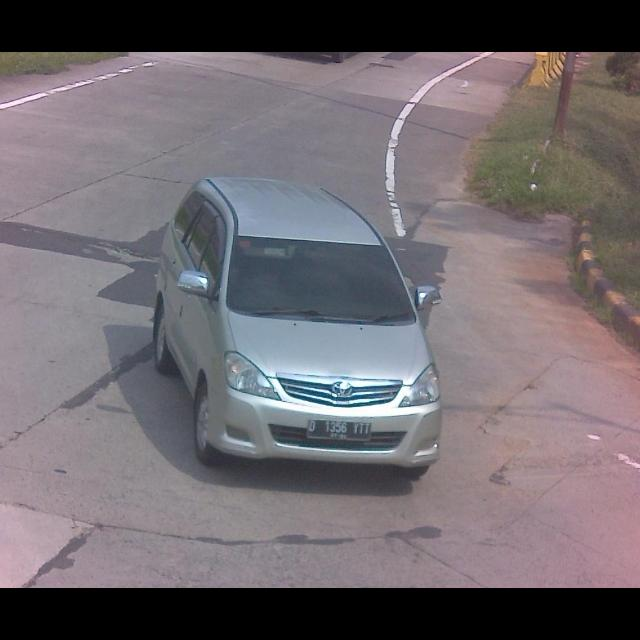plate: (305, 414, 375, 442)
